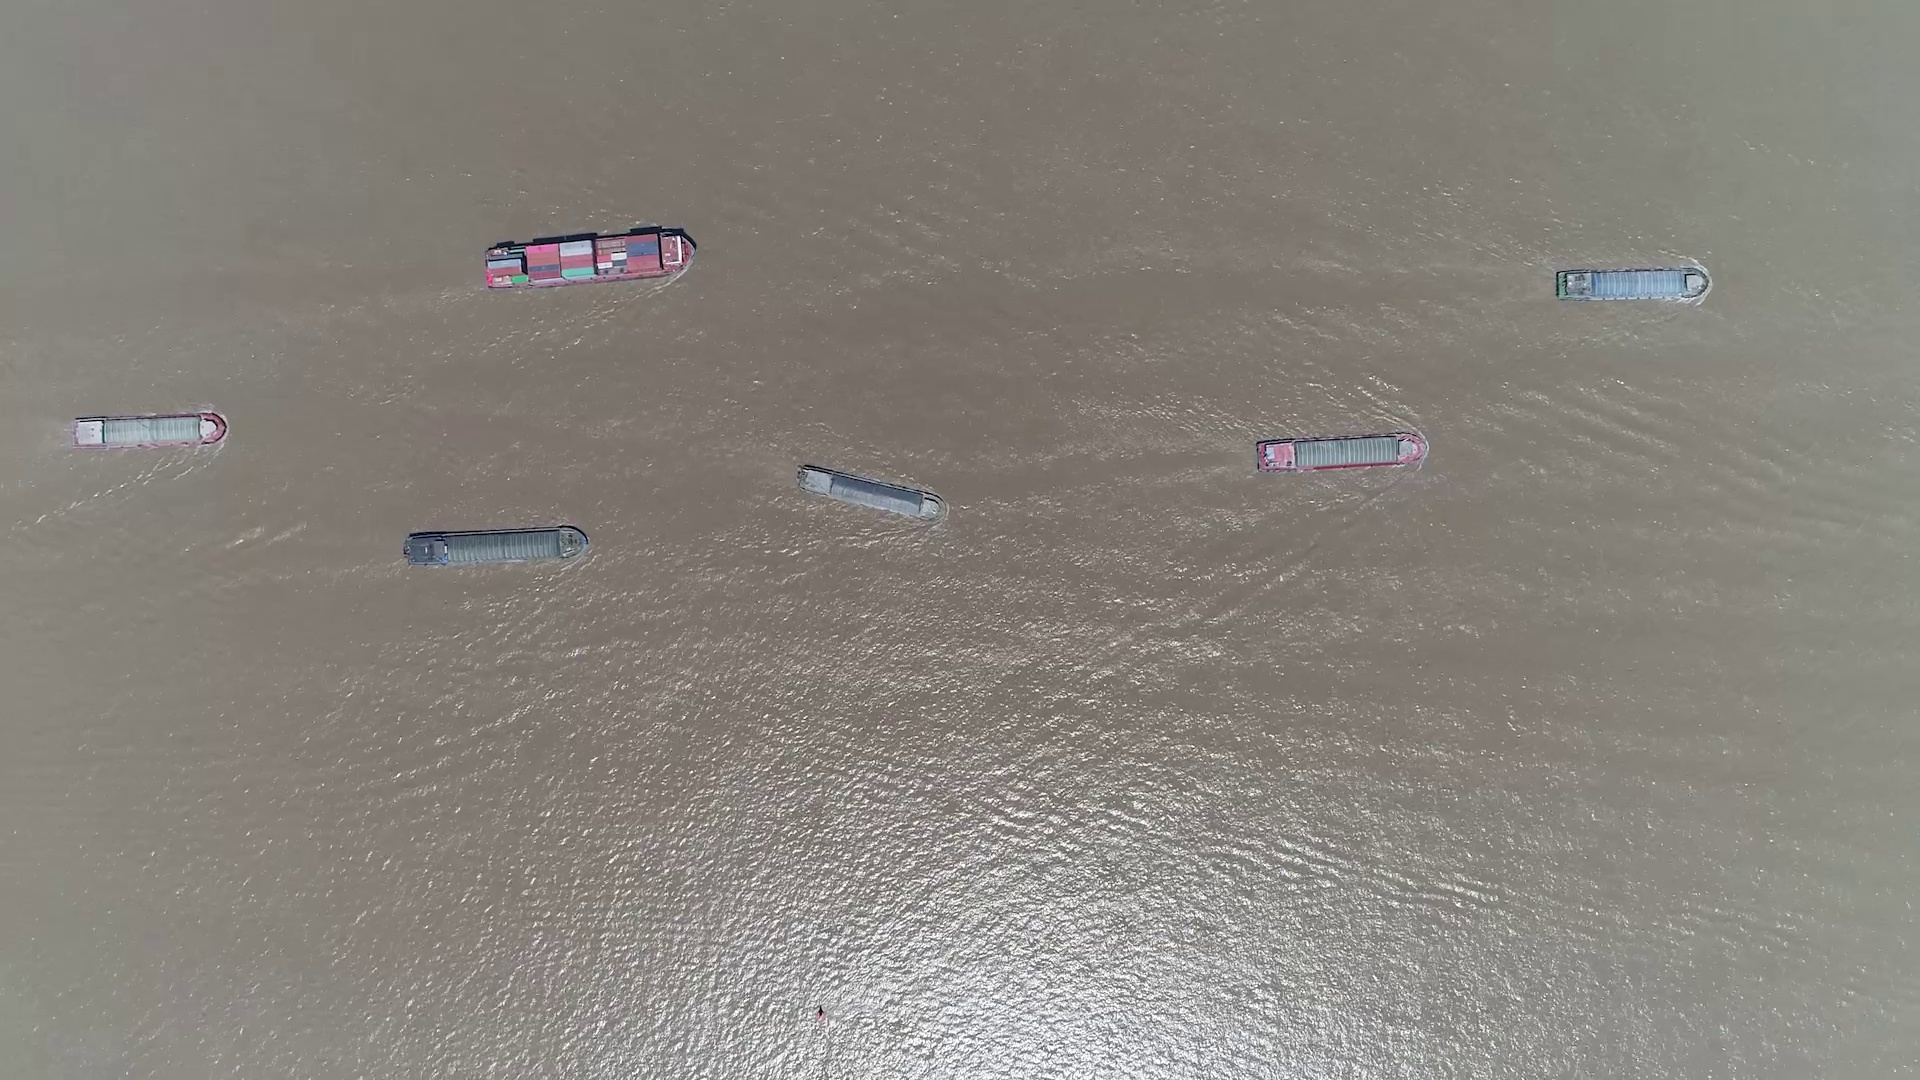ship: (484, 231, 694, 291), (795, 464, 942, 521), (404, 525, 587, 568), (1255, 433, 1427, 472), (69, 414, 225, 447), (1557, 269, 1705, 301)
